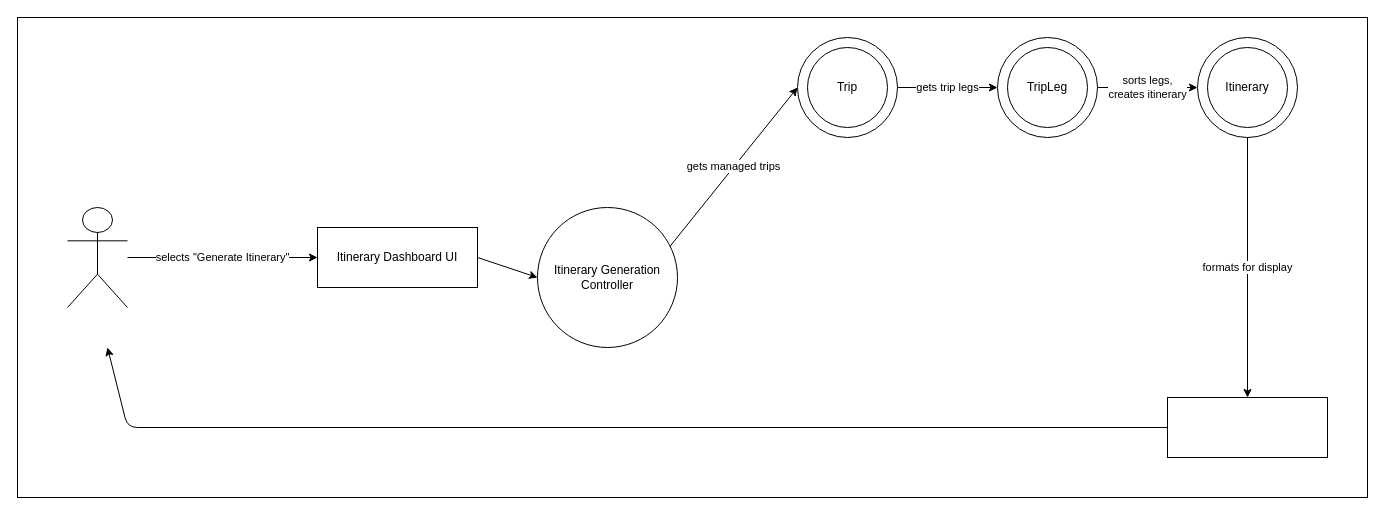
The diagram is 1385 pixels wide and 515 high, and some of its shapes have lost their labels. Each missing label, with the centre of its shape:
"Itinerary Display UI" belongs at (1247,427).
"Trip Coordinator" belongs at (97,257).
